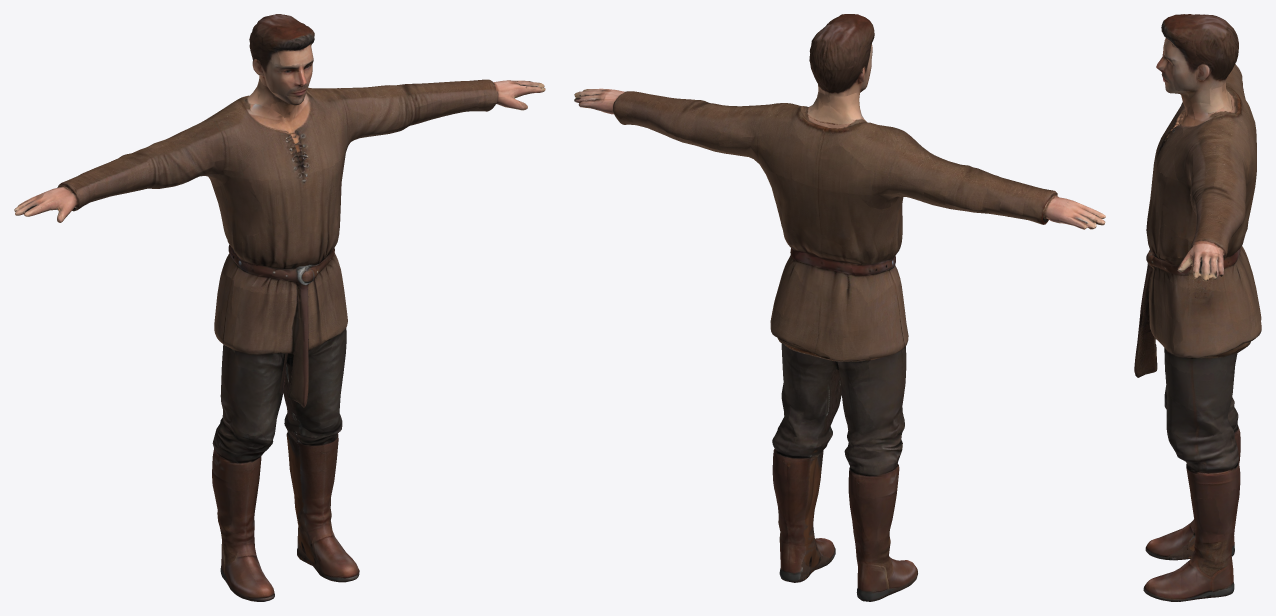
Rendered from villager__medieval-peasant_e3.glb.
3 renders of one model, left to right at view 1: azimuth 30°, elevation 25°; view 2: azimuth 150°, elevation 25°; view 3: azimuth 270°, elevation 25°, orthographic.
Size of the model in its own units: 2 by 2 by 0.4158.
Materials: 1 (1 with a texture image).
